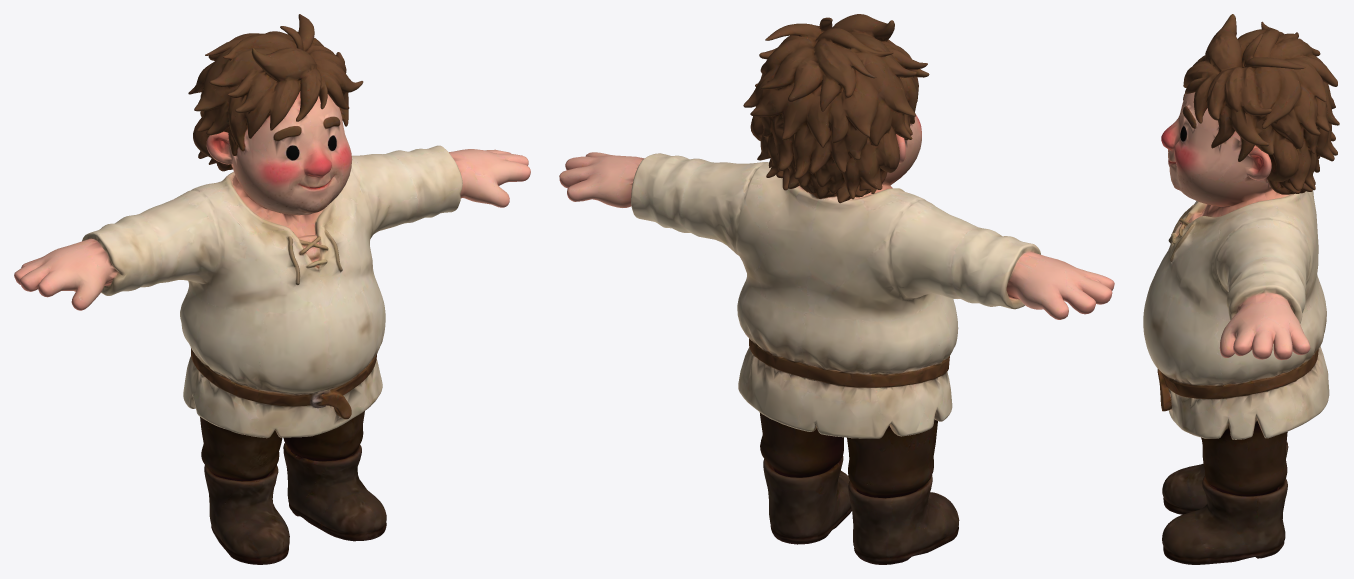
The model's file is a3D-borracho.glb.
The picture shows the model from 3 angles, left to right: view 1: azimuth 30°, elevation 25°; view 2: azimuth 150°, elevation 25°; view 3: azimuth 270°, elevation 25°; orthographic projection. The views are drawn at different scales.
Parts seen in each view (by area): view 1: geometry_0; view 2: geometry_0; view 3: geometry_0.
Part boxes in pixels (x1=…): geometry_0: x1=14, y1=14, x2=530, y2=564; geometry_0: x1=559, y1=14, x2=1114, y2=564; geometry_0: x1=1143, y1=14, x2=1339, y2=564.
Size of the model in its own units: 1.9 by 1.76 by 0.6286.
1 material, 1 textured.
